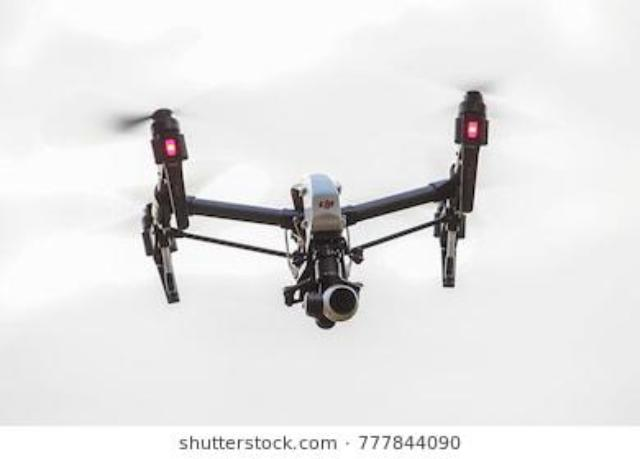drone: (36, 31, 576, 342)
